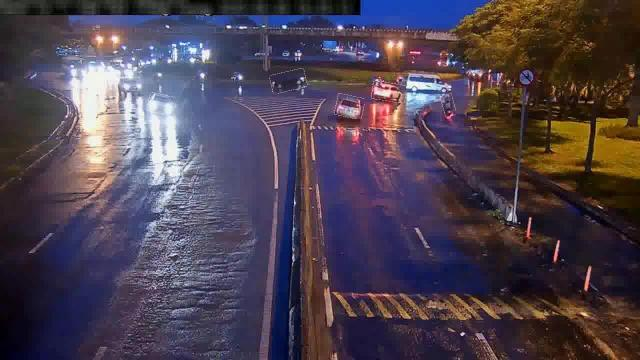Bike: (441, 94, 455, 116)
Car: (270, 70, 306, 92), (372, 82, 406, 102), (336, 94, 364, 118), (148, 93, 176, 114), (116, 78, 140, 92)
